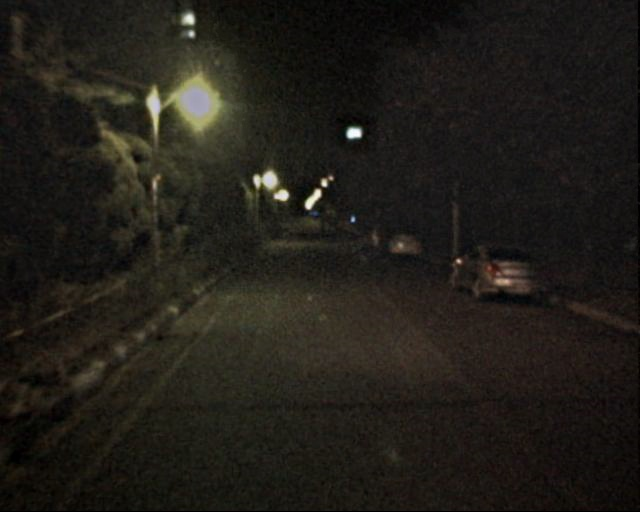person: (375, 222, 393, 266), (356, 223, 372, 263), (316, 219, 335, 240), (281, 218, 290, 239)
